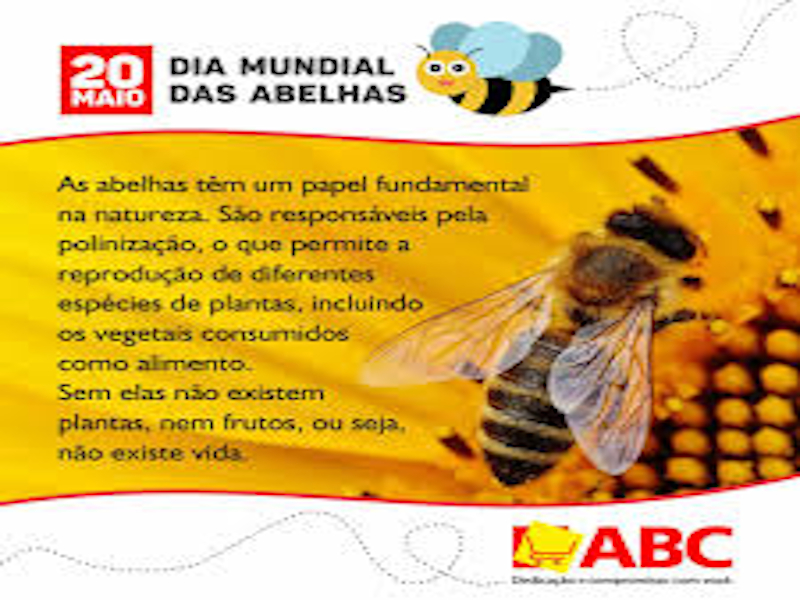abeja: (415, 149, 729, 504)
